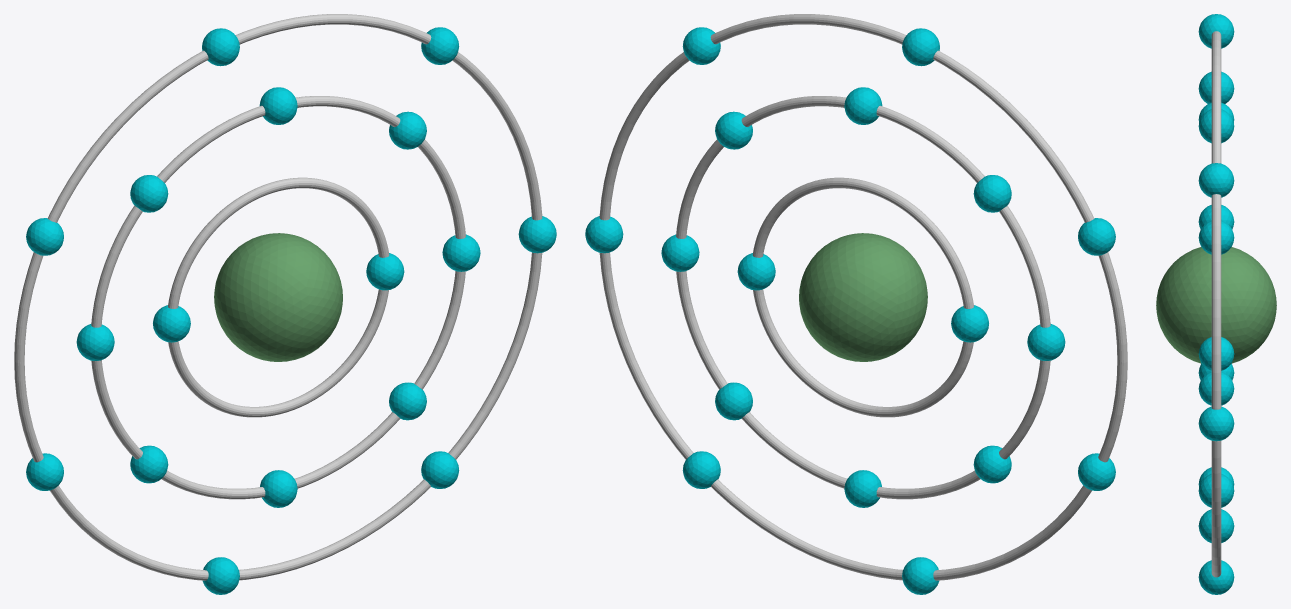
3 views of the same model, side by side, from view 1: azimuth 30°, elevation 25°; view 2: azimuth 150°, elevation 25°; view 3: azimuth 270°, elevation 25° (orthographic). The views are drawn at different scales.
Parts seen in each view (by area): view 1: Camada_3, Nucleo_Cl, Camada_2, Camada_1, e2_4, e3_7, e3_4, e2_8, e3_3, e1_2, e2_5, e2_1 (+9 smaller); view 2: Camada_3, Nucleo_Cl, Camada_2, Camada_1, e2_4, e3_7, e3_4, e2_8, e3_3, e1_2, e2_5, e2_1 (+9 smaller); view 3: Nucleo_Cl, Camada_3, e3_1, e3_2, e3_3, e3_7, e2_2, e1_1, e2_3, e2_8, e2_1, e3_6 (+5 smaller).
Boxes of the visible parts, x1,y1,x2,y2 form: Camada_3: (14, 14, 542, 580); Nucleo_Cl: (214, 233, 342, 361); Camada_2: (91, 96, 465, 499); Camada_1: (168, 177, 389, 417); e2_4: (130, 175, 168, 212); e3_7: (421, 451, 459, 488); e3_4: (26, 218, 63, 255); e2_8: (389, 382, 426, 420); e3_3: (202, 28, 239, 66); e1_2: (153, 305, 190, 342); e2_5: (76, 324, 114, 360); e2_1: (442, 234, 480, 271); Camada_3: (599, 14, 1127, 580); Nucleo_Cl: (799, 233, 927, 361); Camada_2: (676, 96, 1050, 499); Camada_1: (752, 177, 973, 417); e2_4: (973, 175, 1011, 212); e3_7: (682, 451, 720, 488); e3_4: (1078, 218, 1115, 255); e2_8: (715, 382, 752, 420); e3_3: (902, 28, 939, 66); e1_2: (951, 305, 988, 342); e2_5: (1027, 324, 1065, 360); e2_1: (661, 234, 699, 271); Nucleo_Cl: (1156, 247, 1276, 363); Camada_3: (1211, 31, 1221, 577); e3_1: (1198, 406, 1234, 441); e3_2: (1198, 163, 1234, 197); e3_3: (1198, 14, 1234, 48); e3_7: (1198, 560, 1234, 594); e2_2: (1198, 220, 1234, 254); e1_1: (1198, 337, 1234, 370); e2_3: (1198, 109, 1234, 143); e2_8: (1198, 474, 1234, 507); e2_1: (1198, 372, 1234, 405); e3_6: (1198, 509, 1234, 542).
Size of the model in its own units: 2.12 by 2.12 by 0.44.
